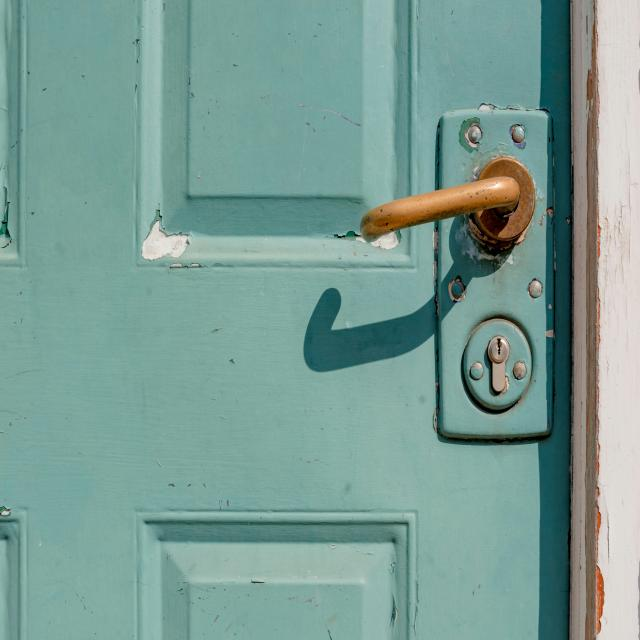door-handle: (360, 157, 535, 243)
